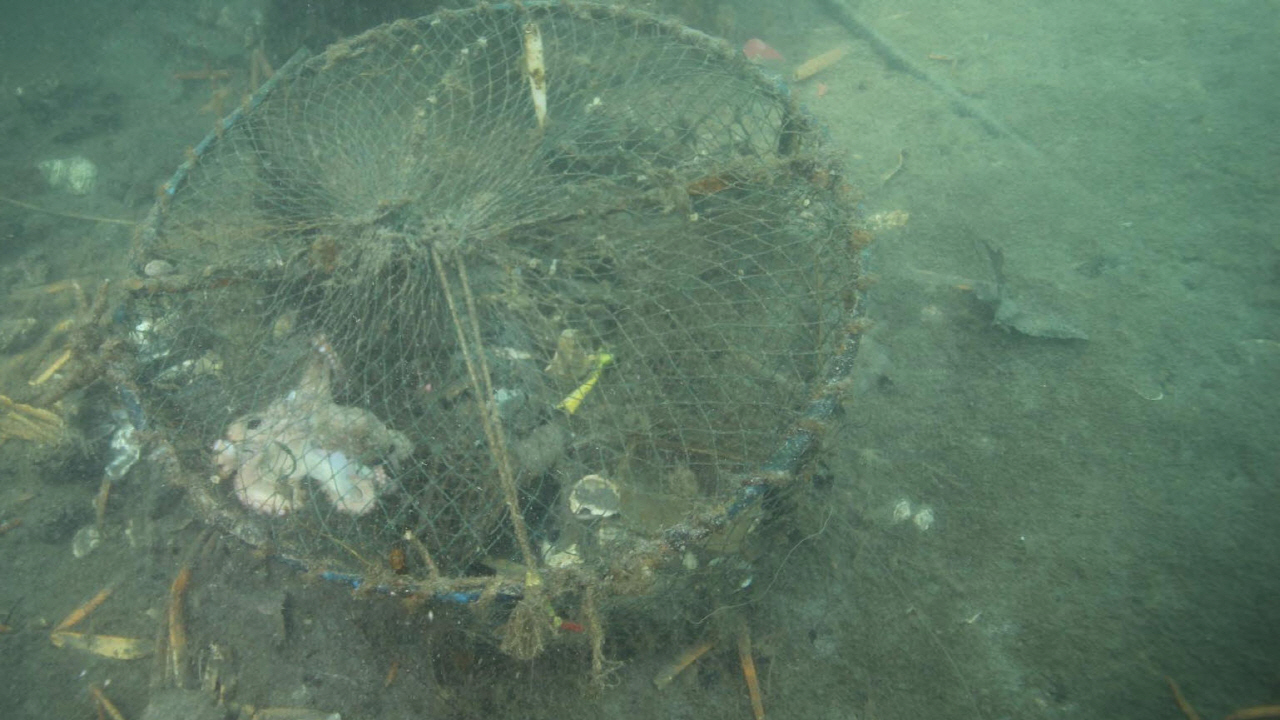circular fish trap: (111, 0, 863, 598)
